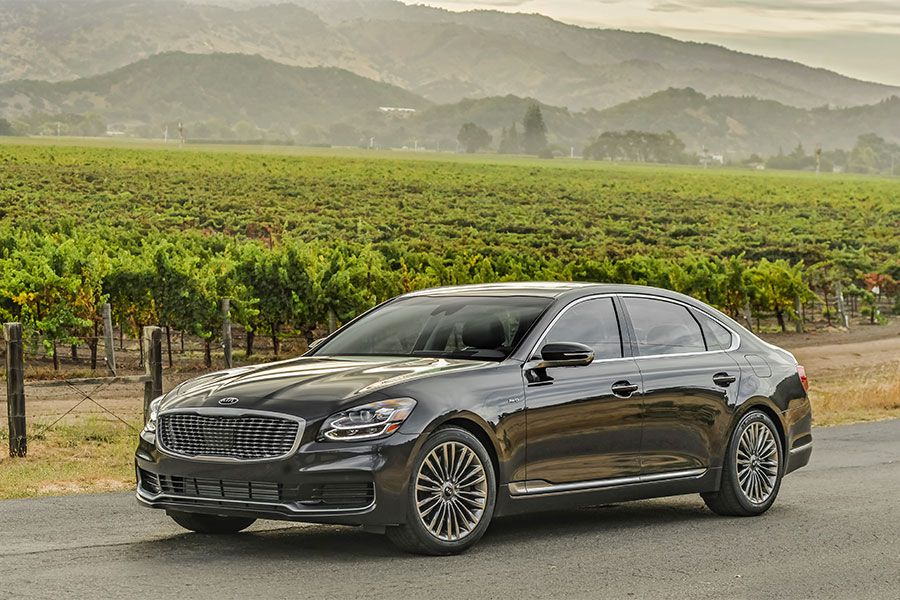car: (133, 281, 813, 555)
